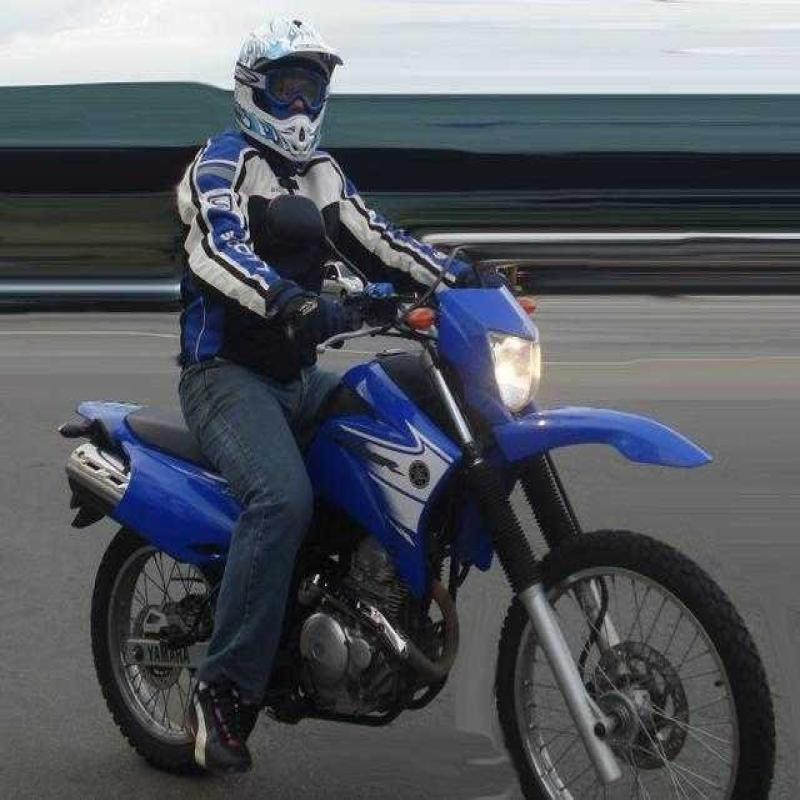bike: (57, 287, 754, 800)
